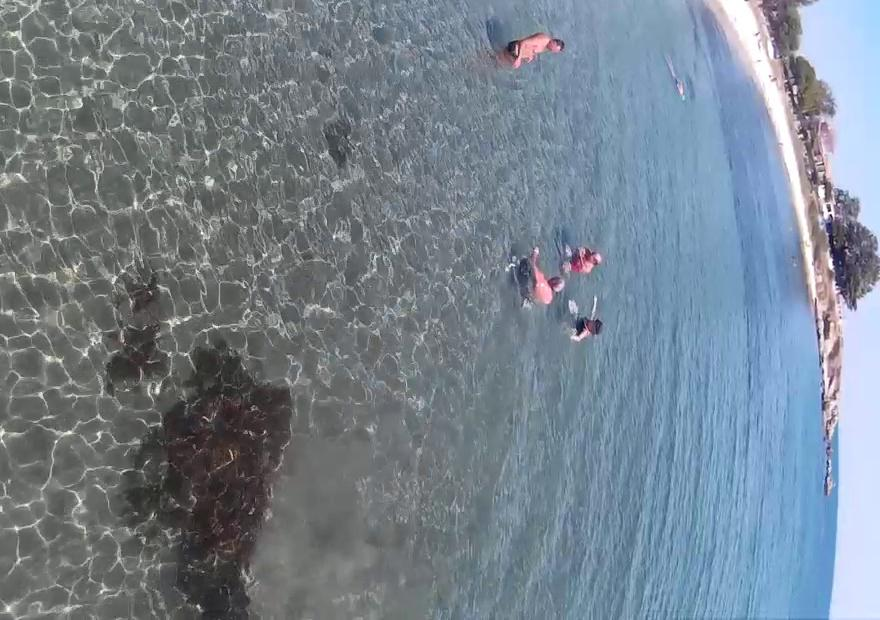swimmer: (513, 232, 561, 322), (498, 16, 563, 78), (566, 288, 608, 358), (560, 232, 606, 282)
